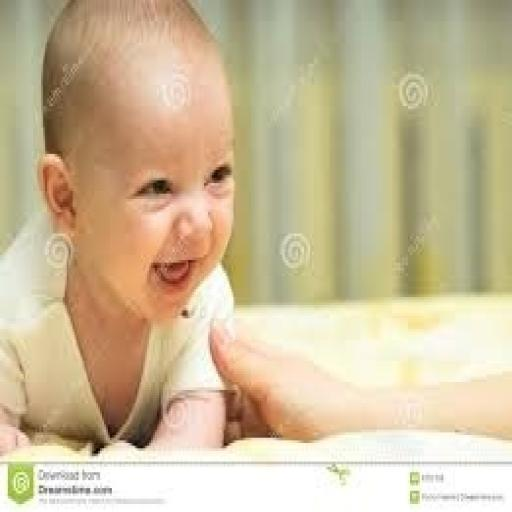laughing: (0, 0, 259, 454)
